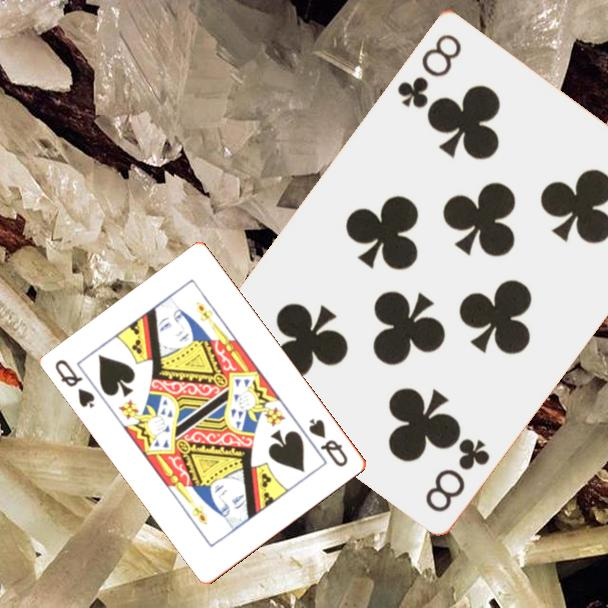c08: (393, 29, 465, 111), (421, 434, 493, 515)
s12: (52, 356, 98, 411), (306, 415, 351, 470)
